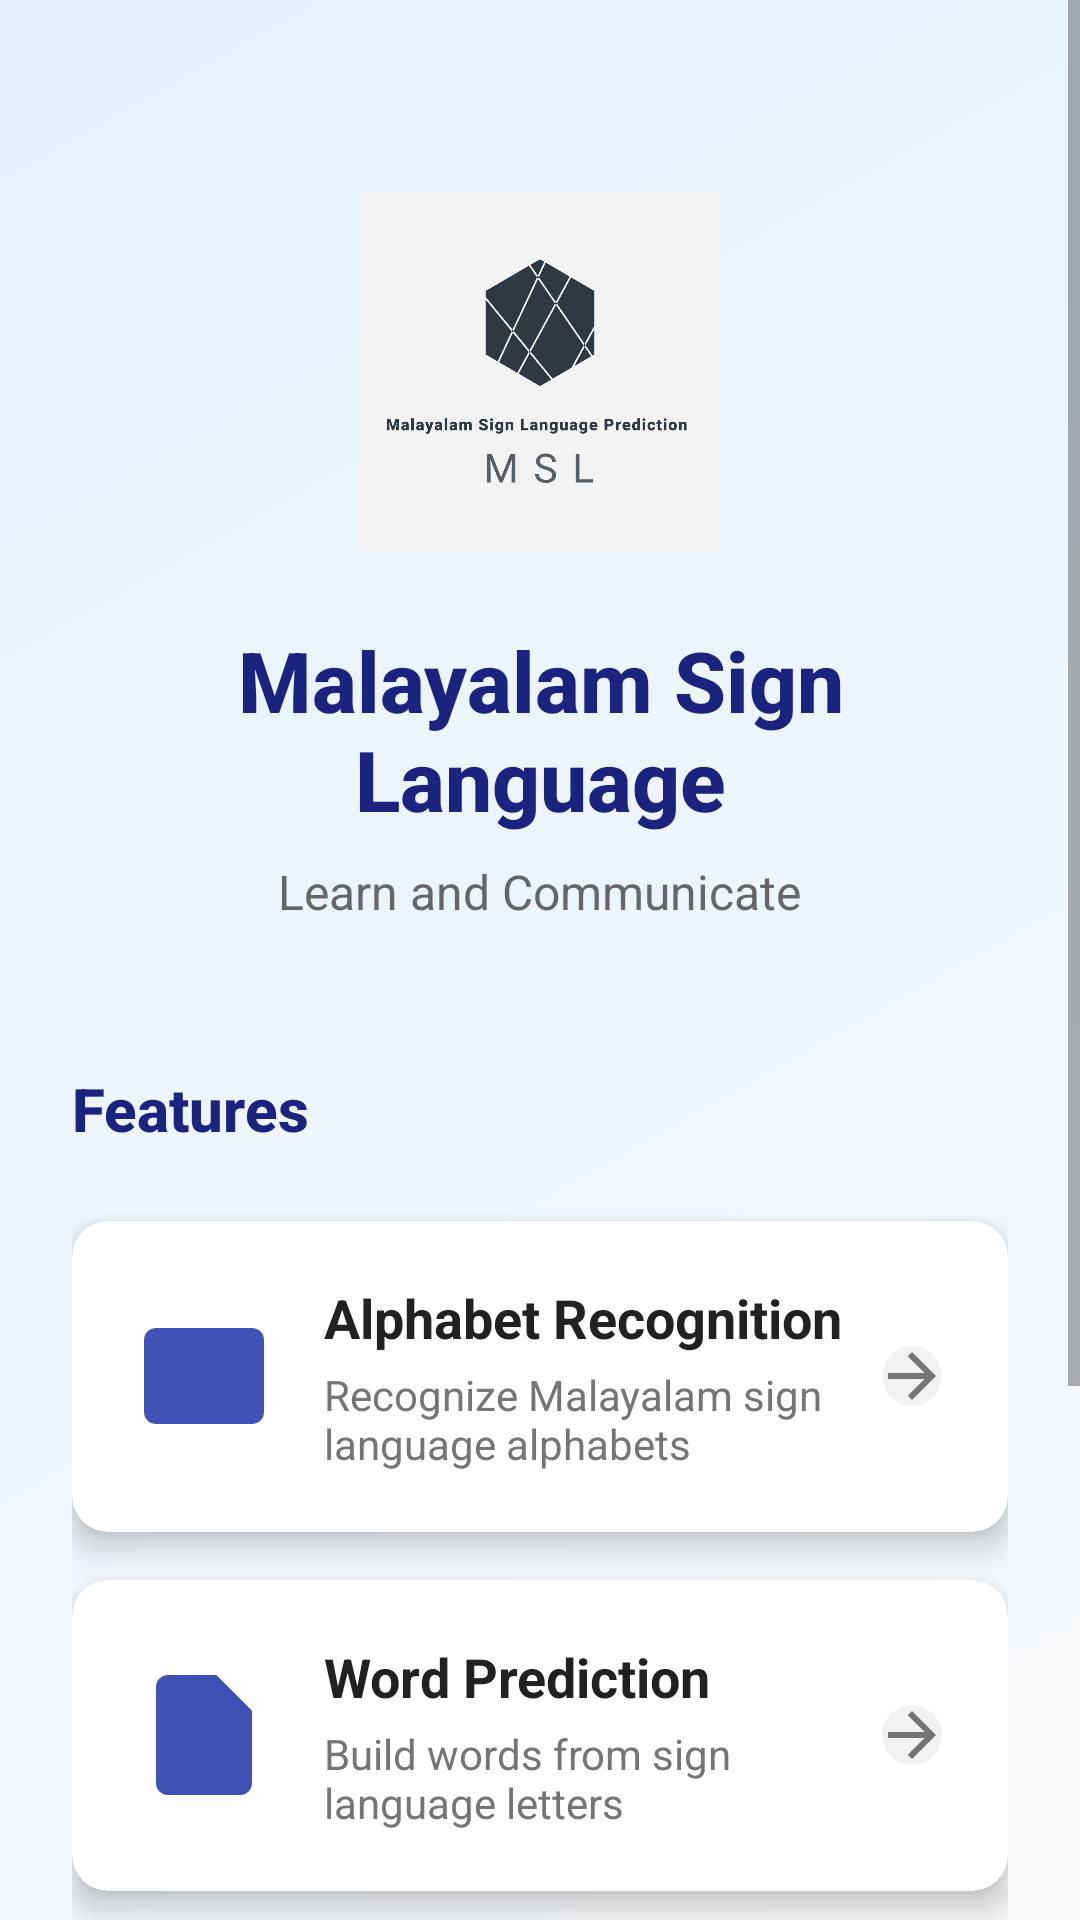

Where to tap for icons on this 1080 x 1920 app screen, as (x,y):
Navigate to Word Prediction: (912,1735)
